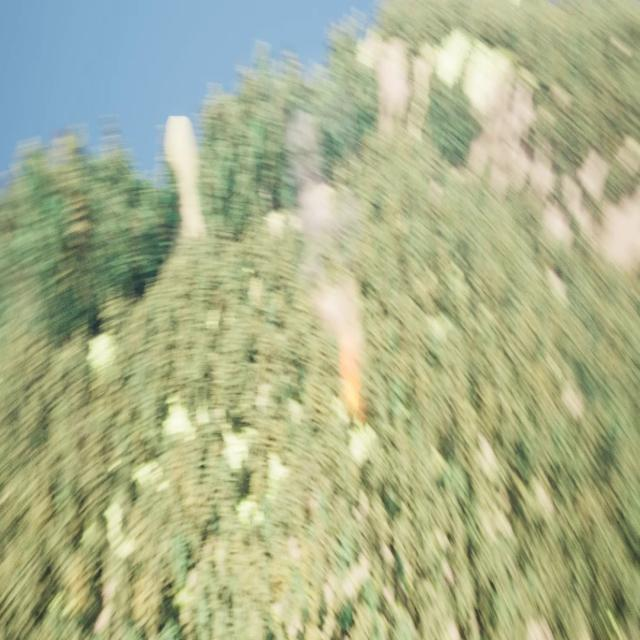fire: (338, 349, 364, 429)
smoke: (291, 119, 367, 354)
